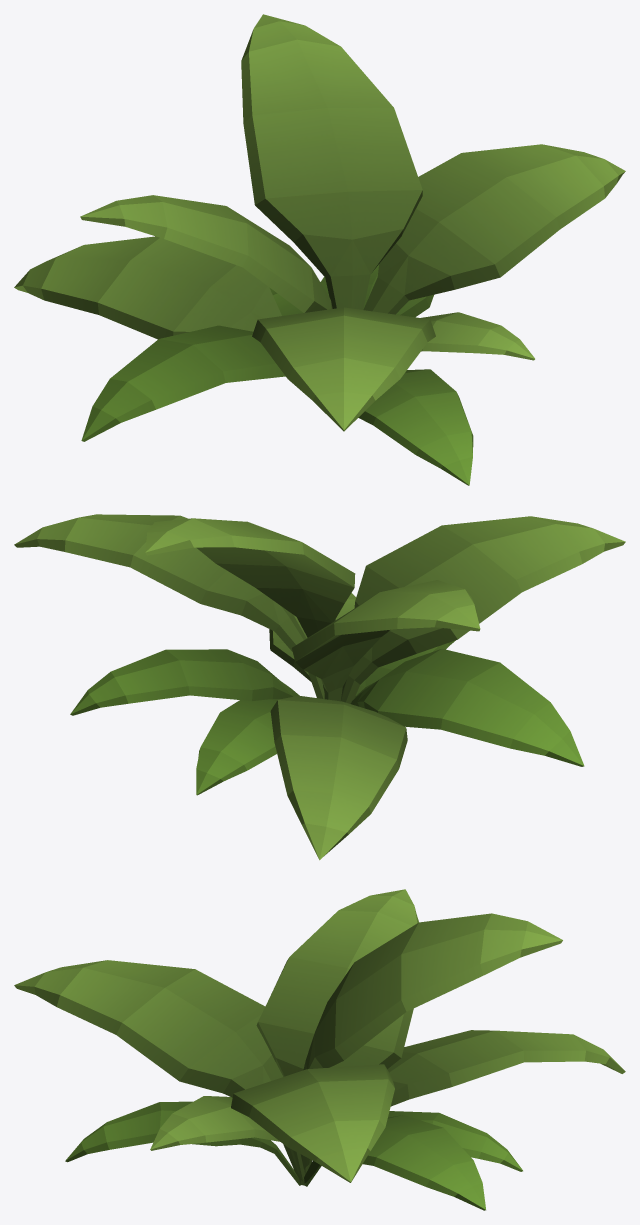
Rendered from Cavern_ShrubShort-03.fbx.
The picture shows the model from 3 angles, top to bottom: view 1: azimuth 30°, elevation 25°; view 2: azimuth 150°, elevation 25°; view 3: azimuth 270°, elevation 25°; orthographic projection. The views are drawn at different scales.
Parts seen in each view (by area): view 1: Cavern_ShrubShort-03; view 2: Cavern_ShrubShort-03; view 3: Cavern_ShrubShort-03.
Boxes of the visible parts, x1,y1,x2,y2 form: Cavern_ShrubShort-03: (14, 14, 625, 485); Cavern_ShrubShort-03: (14, 514, 625, 860); Cavern_ShrubShort-03: (14, 889, 625, 1210).
Size of the model in its own units: 139 by 69.12 by 137.
Materials: 1 (1 with a texture image).
